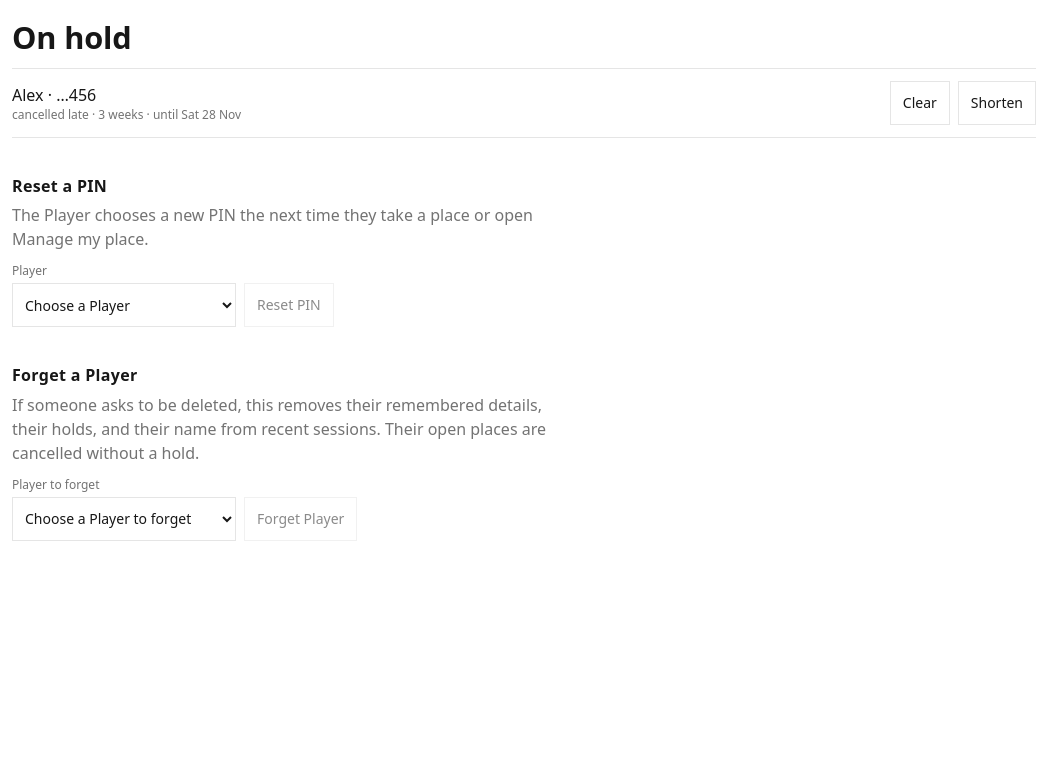
Test: holds › cannot save a shortened hold without a date
This screenshot has width=1048, height=768.
Click the button with aria-label "Shorten hold for Alex": (997, 103) x1=958 y1=81 x2=1036 y2=125
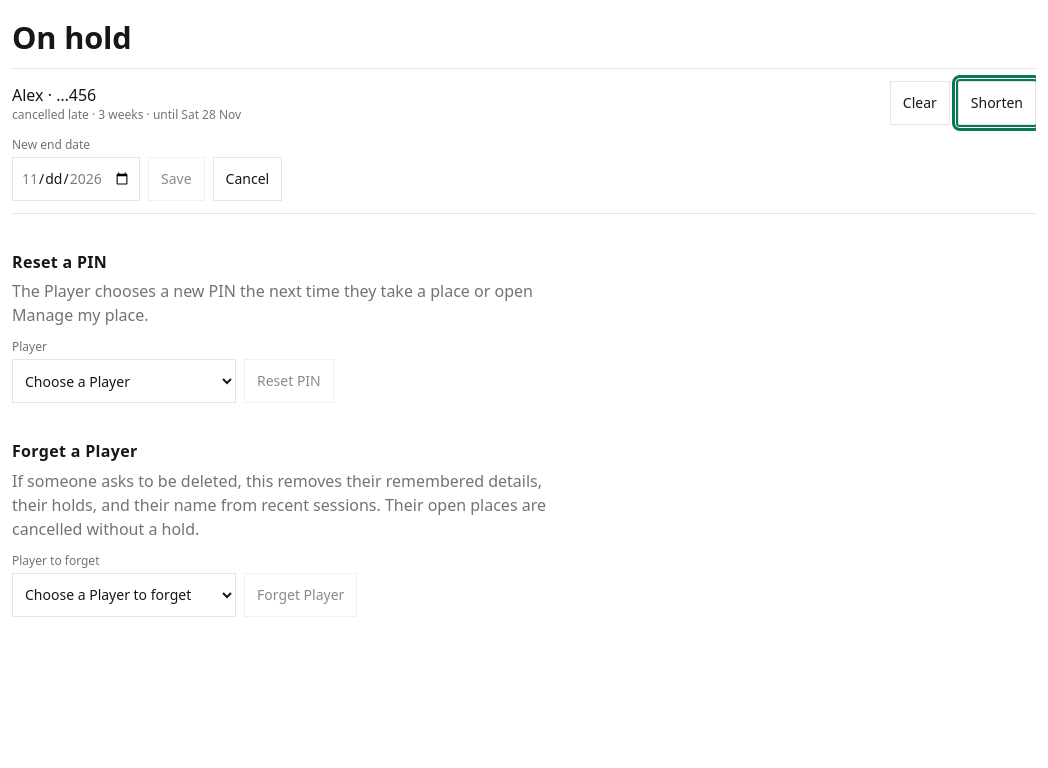
expect the button "Save" is disabled: met, box x1=148 y1=157 x2=205 y2=201
